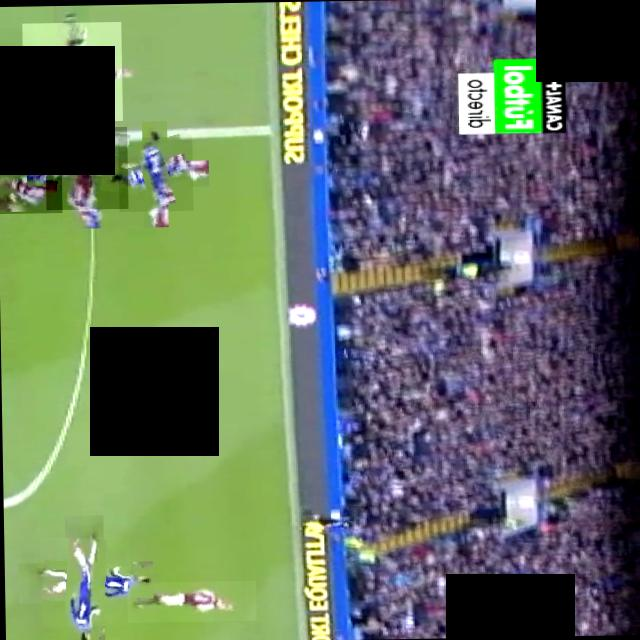referee: (22, 20, 122, 121)
soccer-player: (40, 535, 132, 626), (45, 125, 128, 208), (118, 136, 193, 210), (126, 580, 256, 622), (0, 158, 62, 212)
